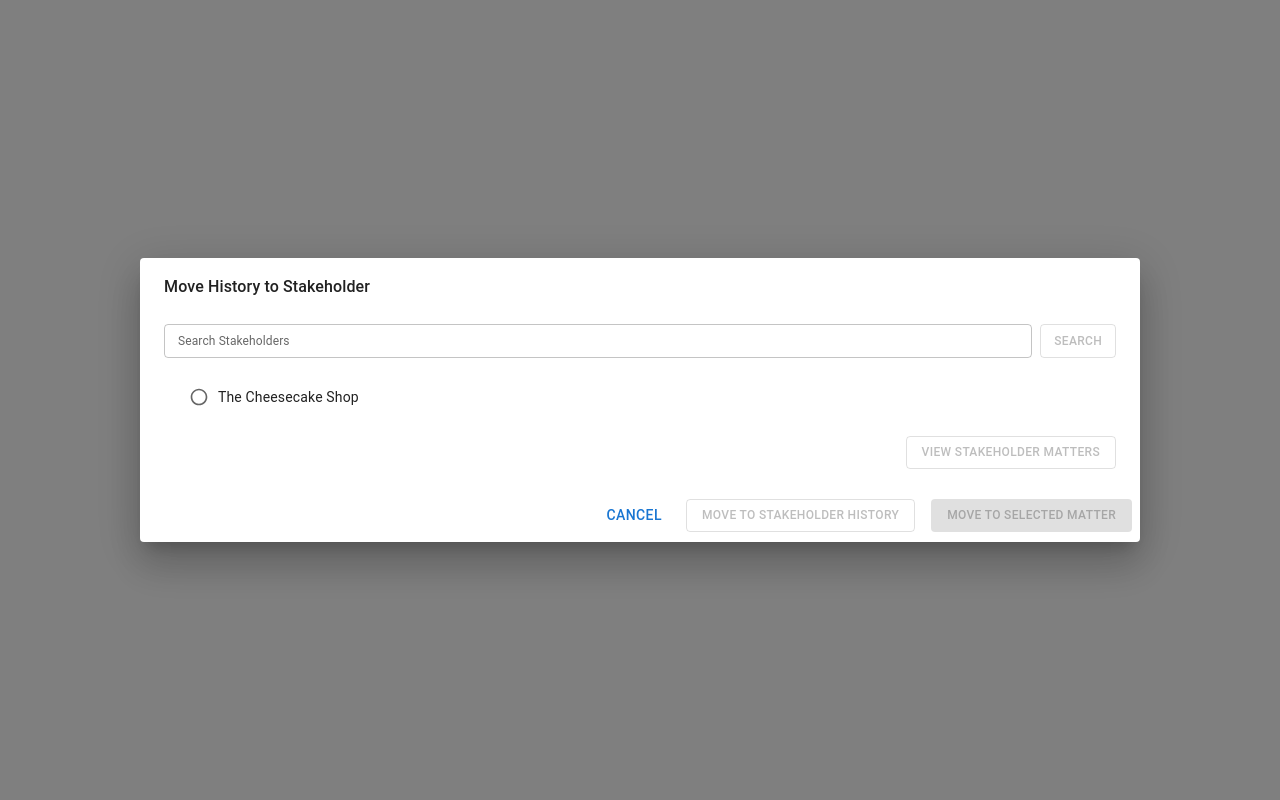
Test: StakeholderMoveDialog destinations › allows a direct Stakeholder History move when the Stakeholder has no Matters
Click the radio button named "Select Stakeholder The Cheesecake Shop" at (199, 397), box [189,387,209,407]
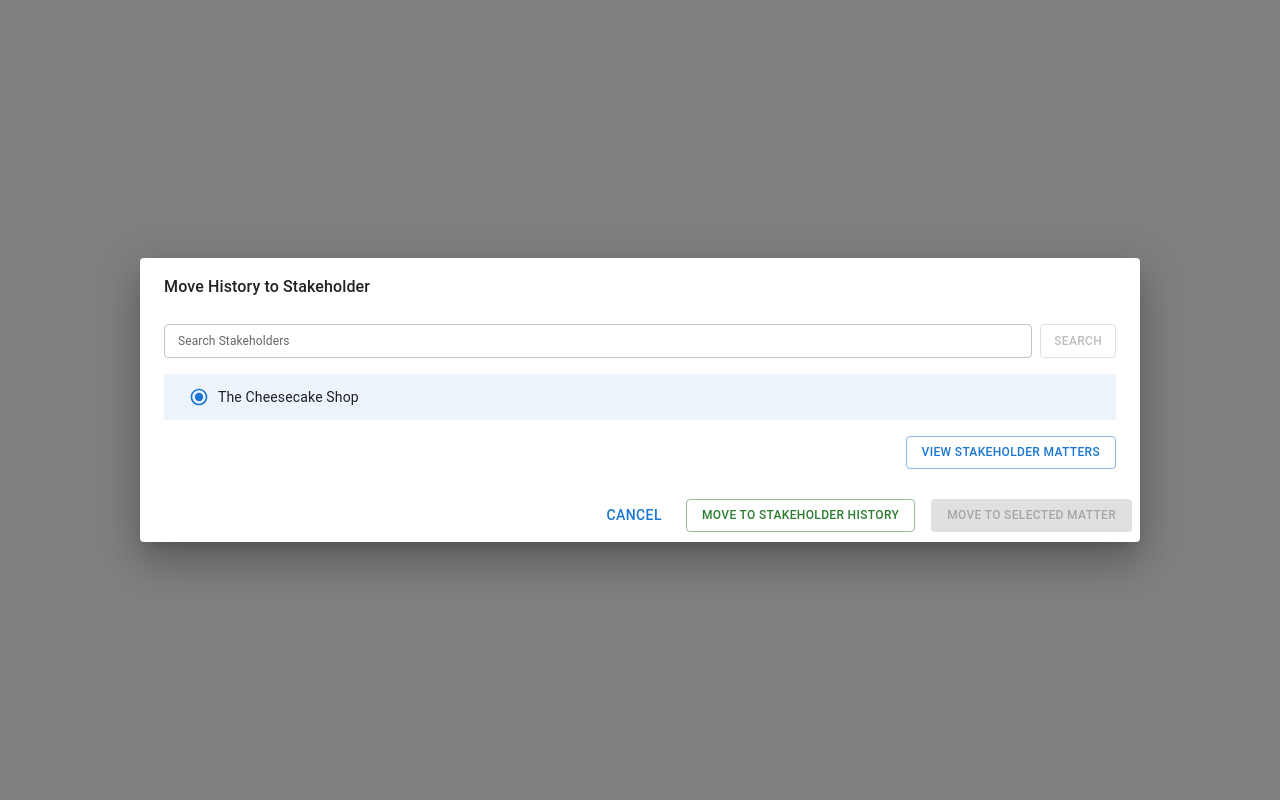
Click the button "View Stakeholder Matters" at (1011, 453), box [906,436,1116,469]
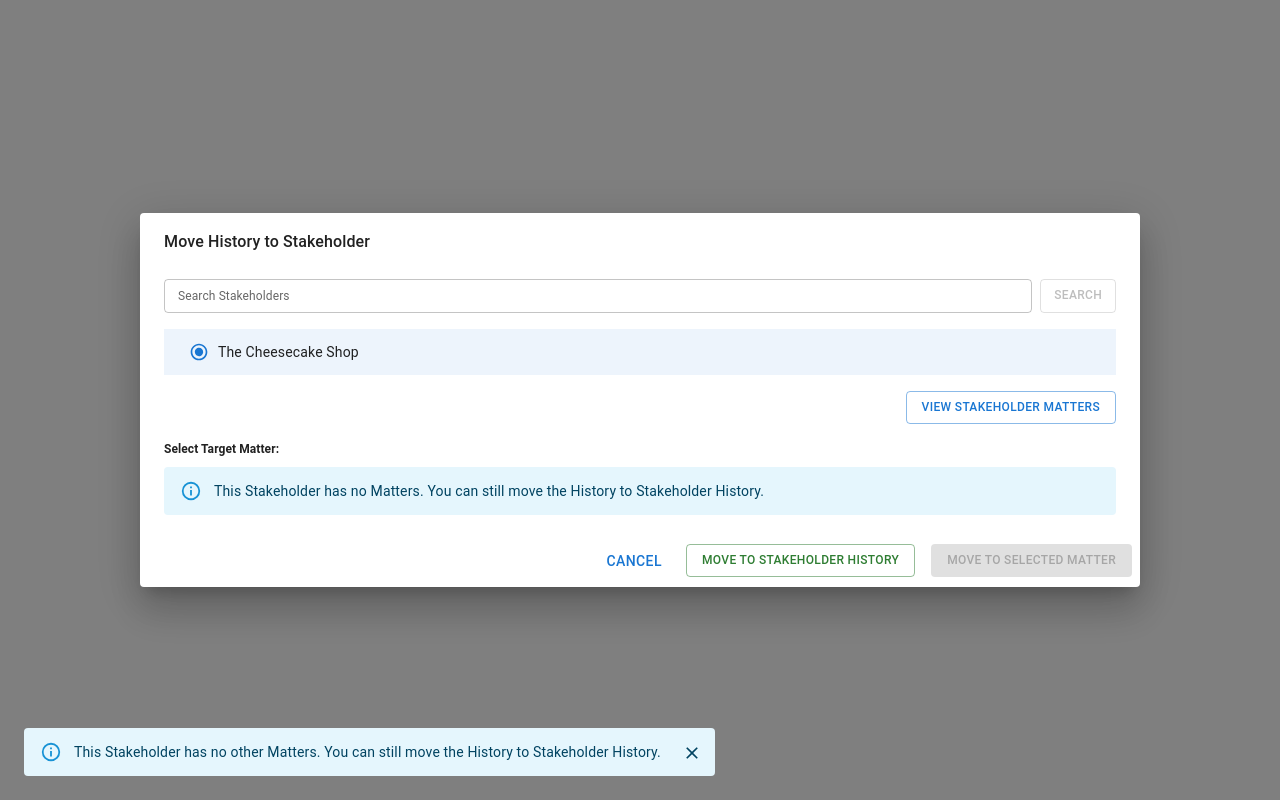
expect the button "Move to Selected Matter" is disabled: met, box [931,544,1132,577]
expect the button "Move to Stakeholder History" is enabled: met, box [686,544,915,577]
expect the text "This Stakeholder has no Matters. You can still move the History to Stakeholder History." is shown: met, box [214,483,764,499]
